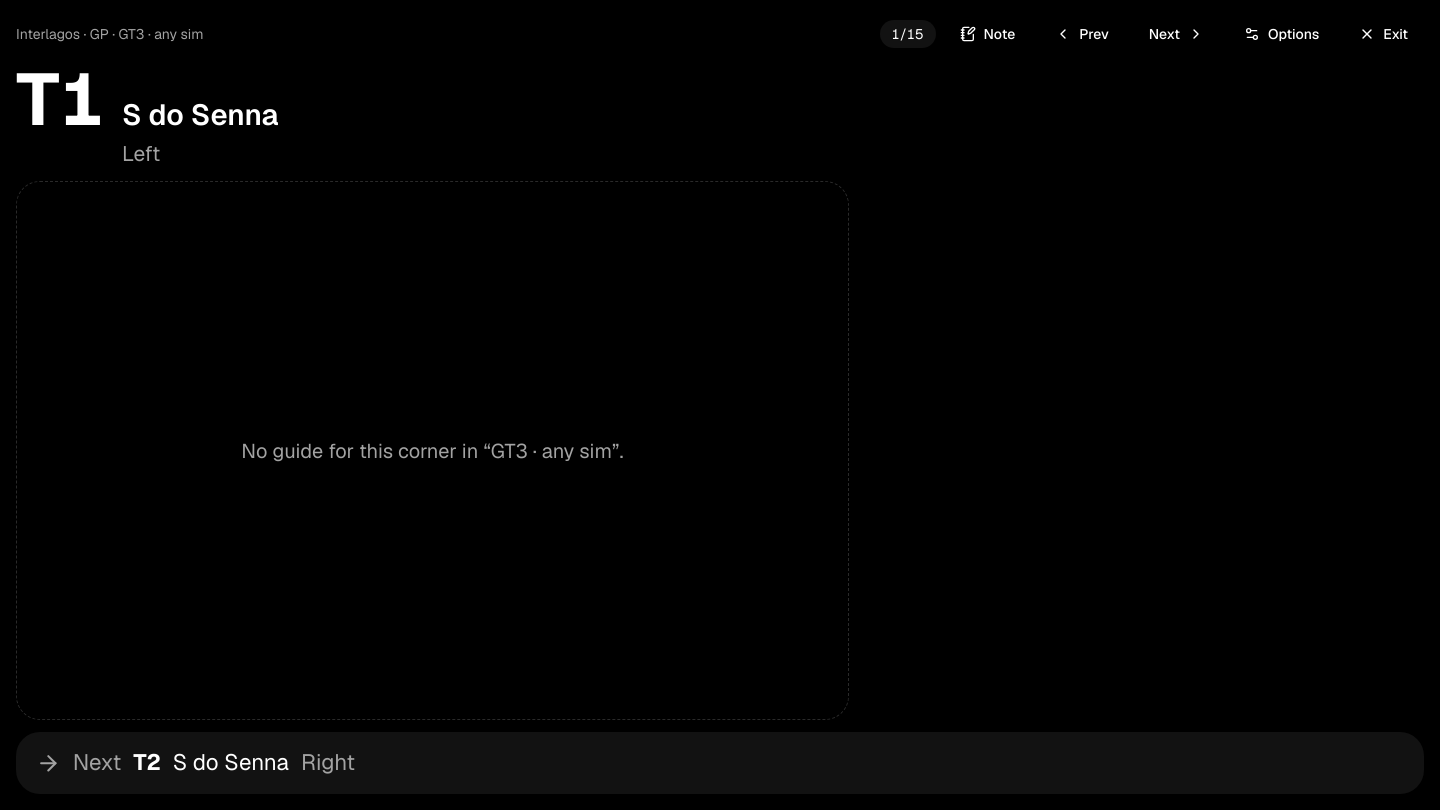
Test: PracticePage following the video › keeps a note on its corner while the video passes the next mark
This screenshot has width=1440, height=810.
Click the button "Note".
click(987, 34)  # box [944,12,1031,56]
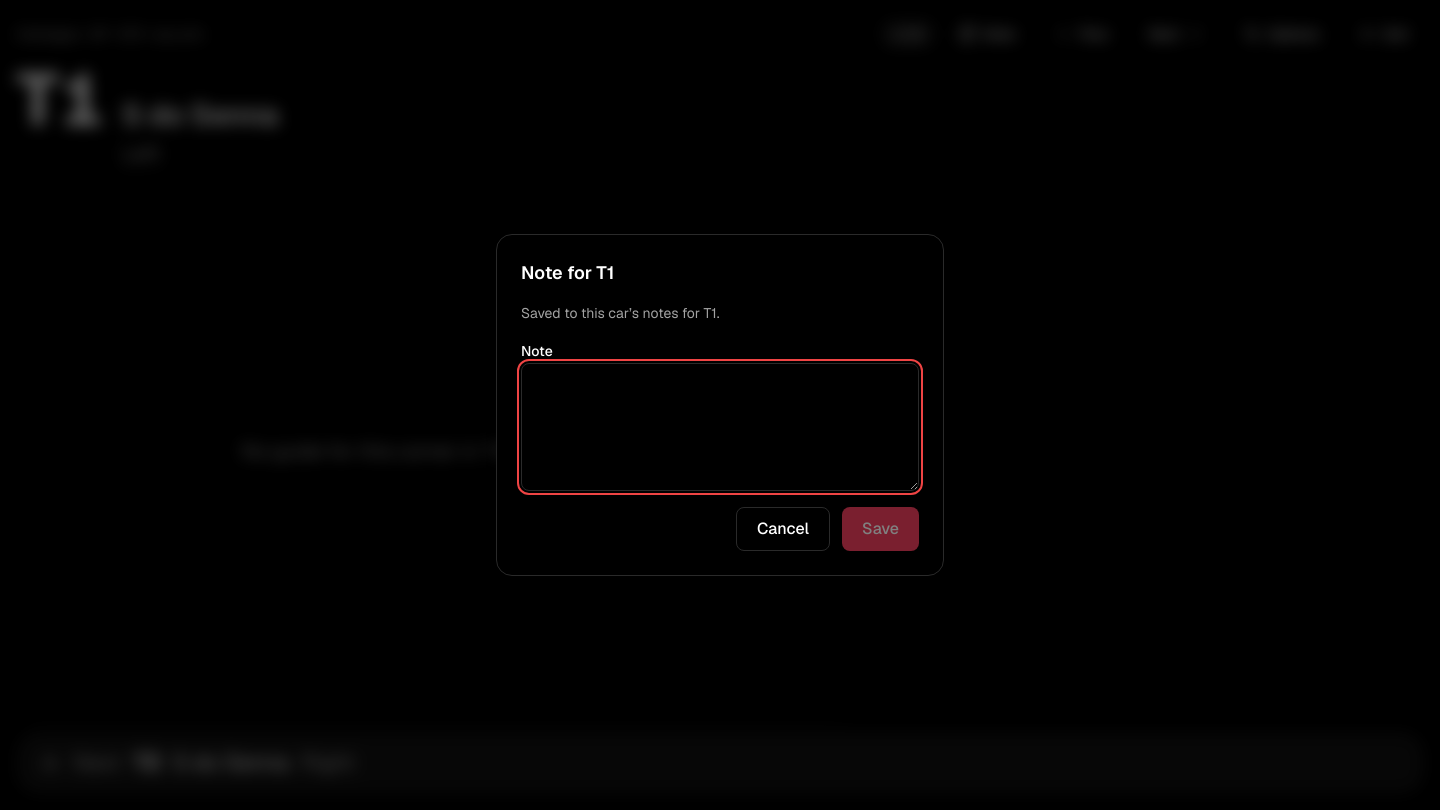
expect the dialog "Note for T1" is shown: met, box [496,234,944,576]
Type "Braked late" into the text box labelled "Note".
click(720, 427); type("Braked late")  # box [521,363,919,491]
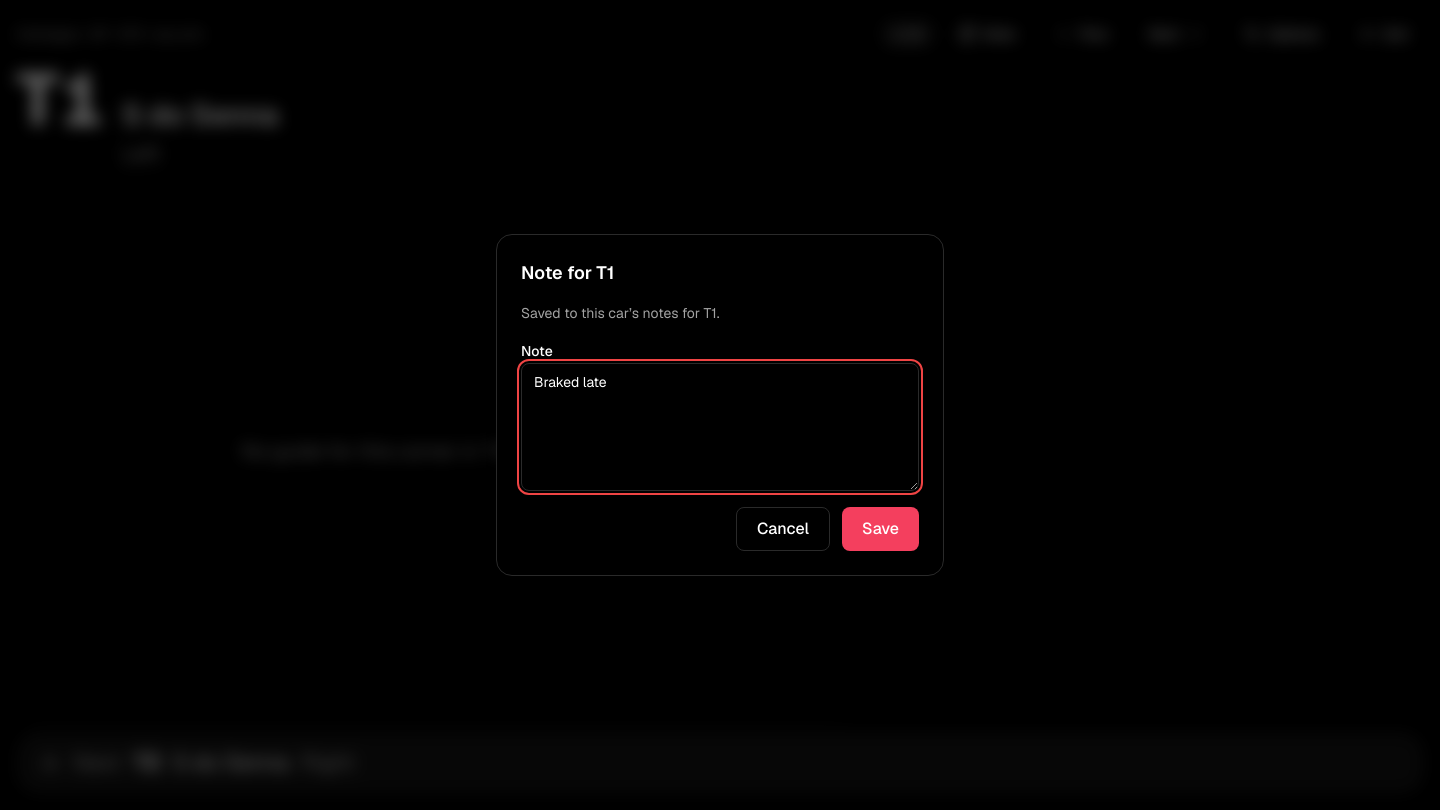
Click the button with aria-label "Save note".
click(880, 529)  # box [842,507,919,551]
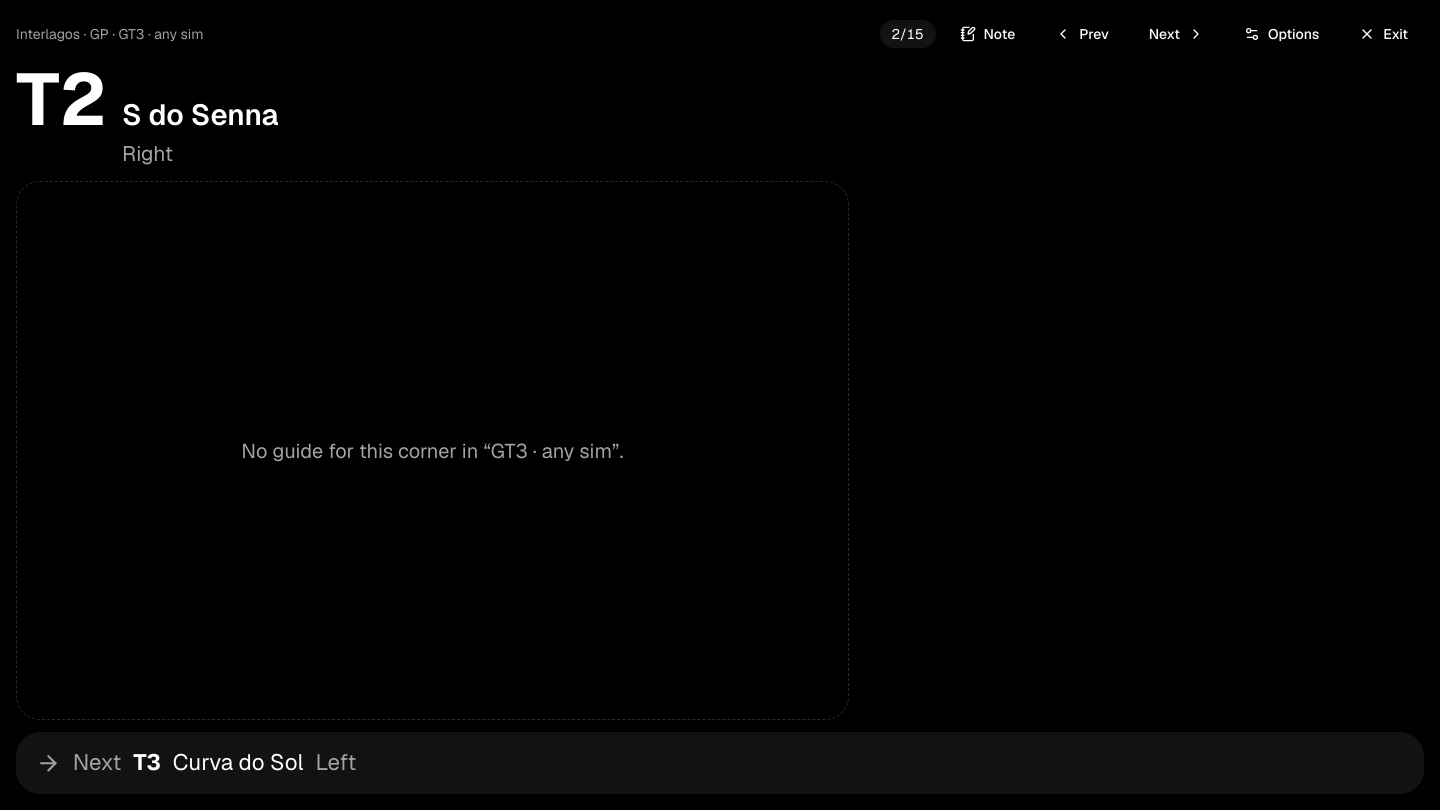
expect the dialog is gone: met
